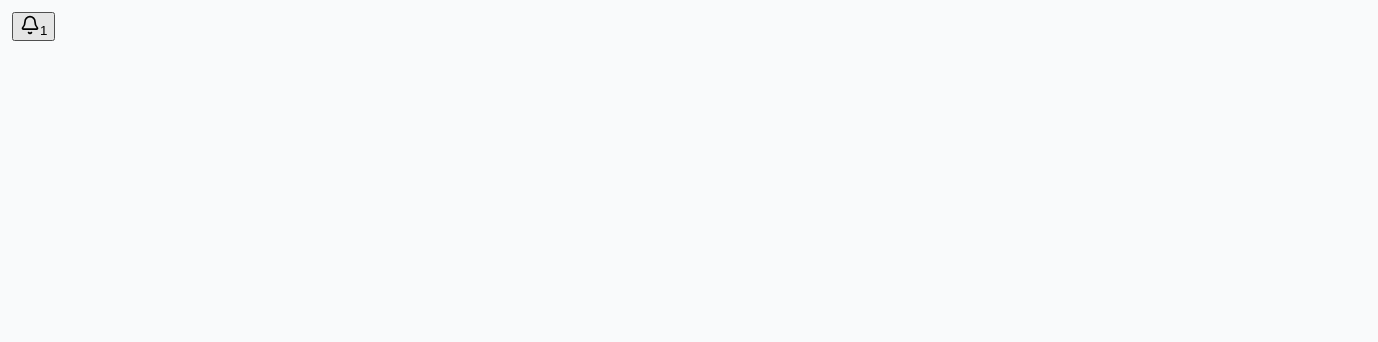
failed read preserves badge and successful keyboard retry clears it
Step 1. Click the button named "Notifications" → (34, 26), box top-left (12, 12), bottom-right (55, 41)
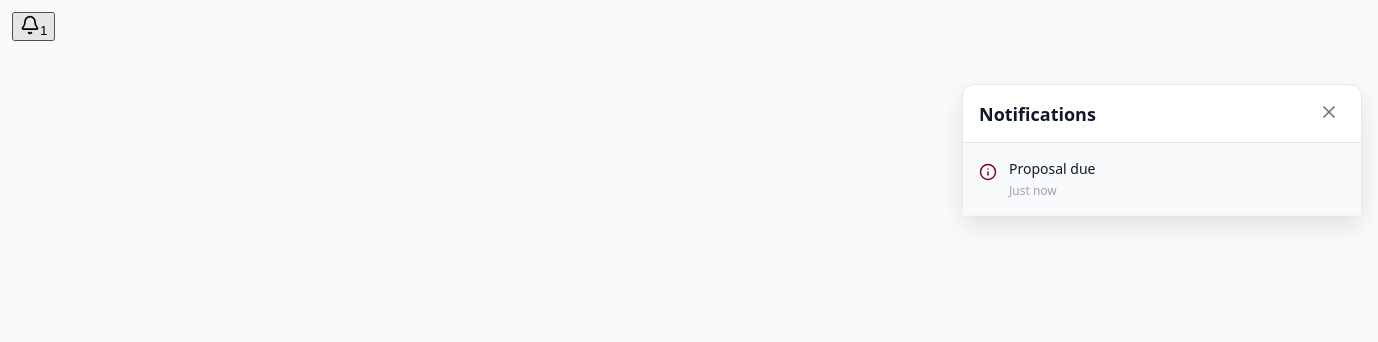
Step 2. Click the button "Proposal due Just now" → (1052, 168), box top-left (963, 143), bottom-right (1361, 216)
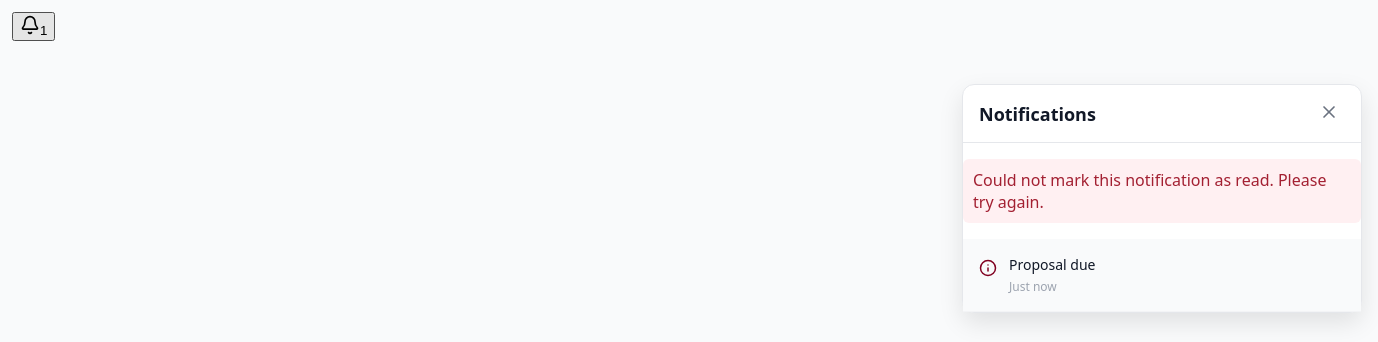
Check: the text with class "notification-badge" reads "1", box top-left (40, 23), bottom-right (47, 38)
Check: the message "Could not mark this notification as read. Please try again." is shown, box top-left (963, 159), bottom-right (1361, 223)
Step 3. Press Enter in the button "Proposal due Just now", box top-left (963, 239), bottom-right (1361, 312)
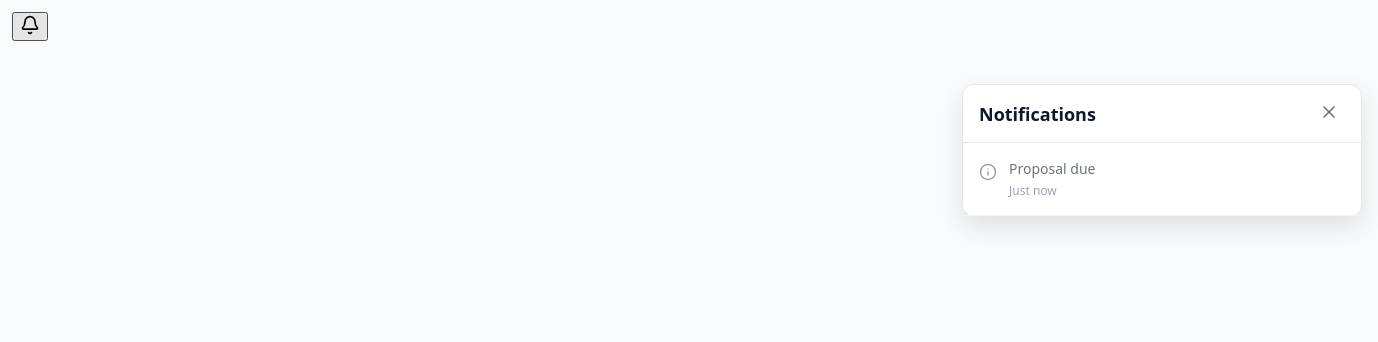
Check: the text with class "notification-badge" is gone
